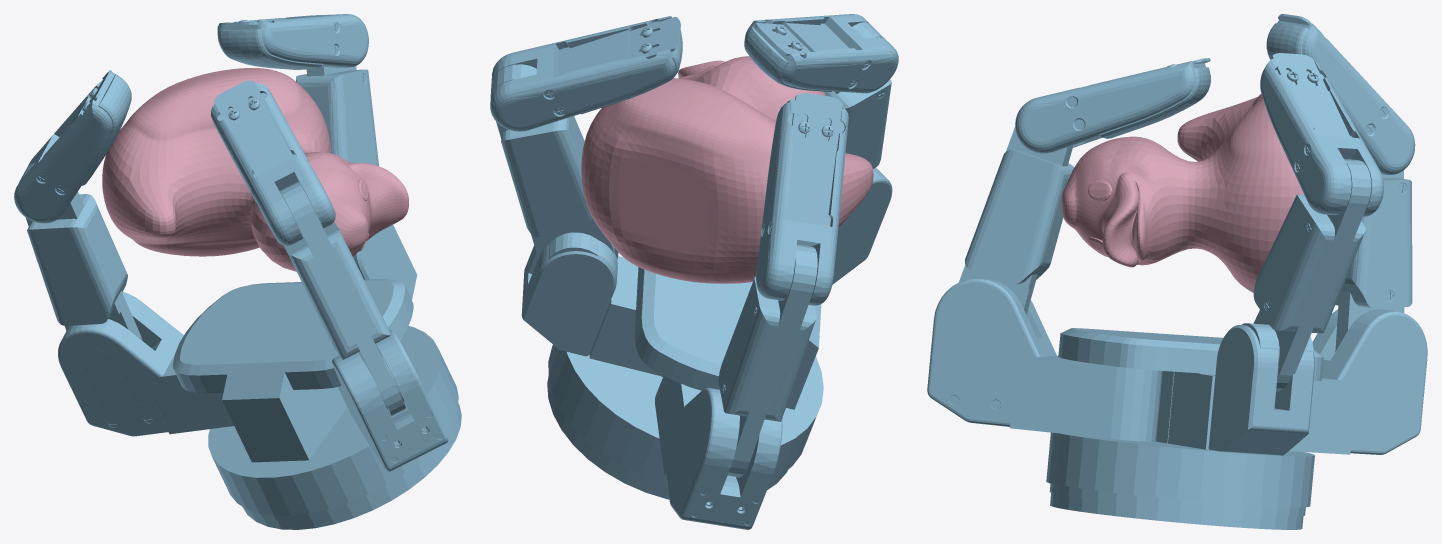
3 renders of one model, left to right at view 1: azimuth 30°, elevation 25°; view 2: azimuth 150°, elevation 25°; view 3: azimuth 270°, elevation 25°, orthographic. The views are drawn at different scales.
Visible parts, largest first — view 1: world; view 2: world; view 3: world.
Boxes of the visible parts, x1=… form: world: x1=14, y1=14, x2=461, y2=529; world: x1=490, y1=14, x2=898, y2=529; world: x1=927, y1=14, x2=1427, y2=529.
Size of the model in its own units: 0.1398 by 0.178 by 0.1678.
